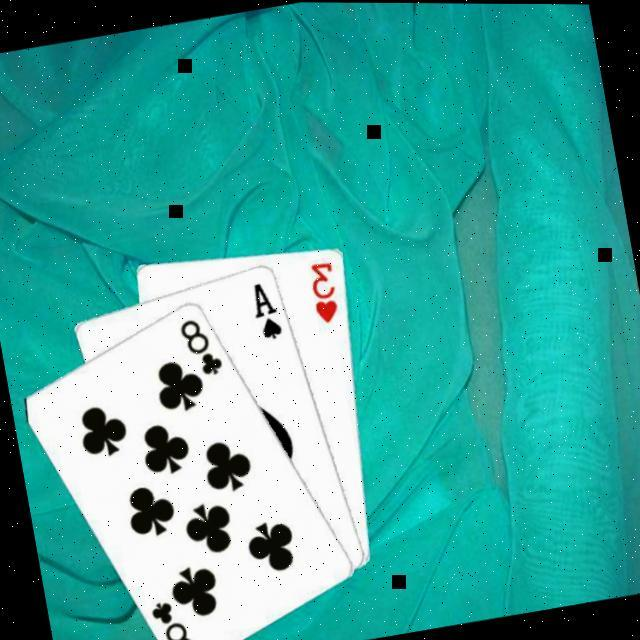3H: (306, 254, 344, 324)
8C: (175, 309, 227, 379), (146, 590, 198, 640)
AS: (246, 273, 286, 341)
